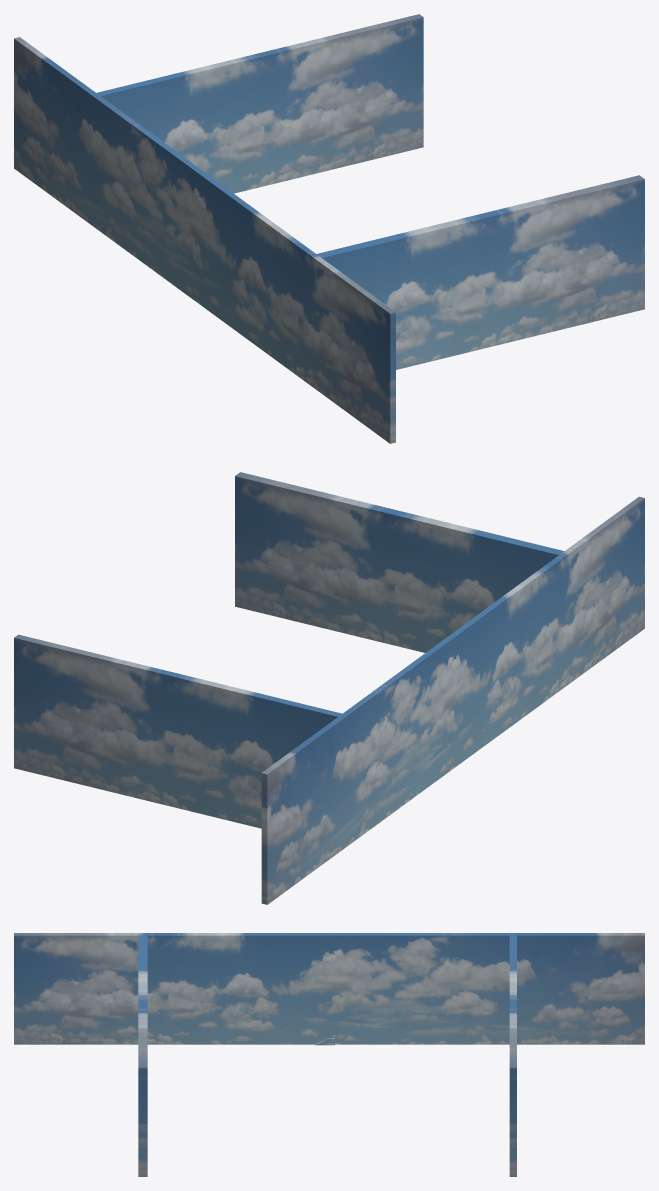
The model's file is skybox.fbx.
The picture shows the model from 3 angles, top to bottom: view 1: azimuth 30°, elevation 25°; view 2: azimuth 150°, elevation 25°; view 3: azimuth 270°, elevation 25°; orthographic projection. The views are drawn at different scales.
Visible parts, largest first — view 1: sky_1, sky_4, sky_2, sky_3; view 2: sky_4, sky_1, sky_3, sky_2; view 3: sky_3, sky_2, sky_1, sky_4.
Boxes of the visible parts, x1,y1,x2,y2 form: sky_1: (317,175,644,369); sky_4: (94,14,423,193); sky_2: (202,174,395,443); sky_3: (14,37,207,305); sky_4: (14,634,342,828); sky_1: (235,472,566,652); sky_3: (261,635,456,904); sky_2: (450,496,644,766); sky_3: (329,933,644,1044); sky_2: (14,933,329,1044); sky_1: (138,934,147,1176); sky_4: (509,934,516,1176).
Bounding box in the file's own units: 194 × 73.45 × 385.
1 material, 1 textured.
